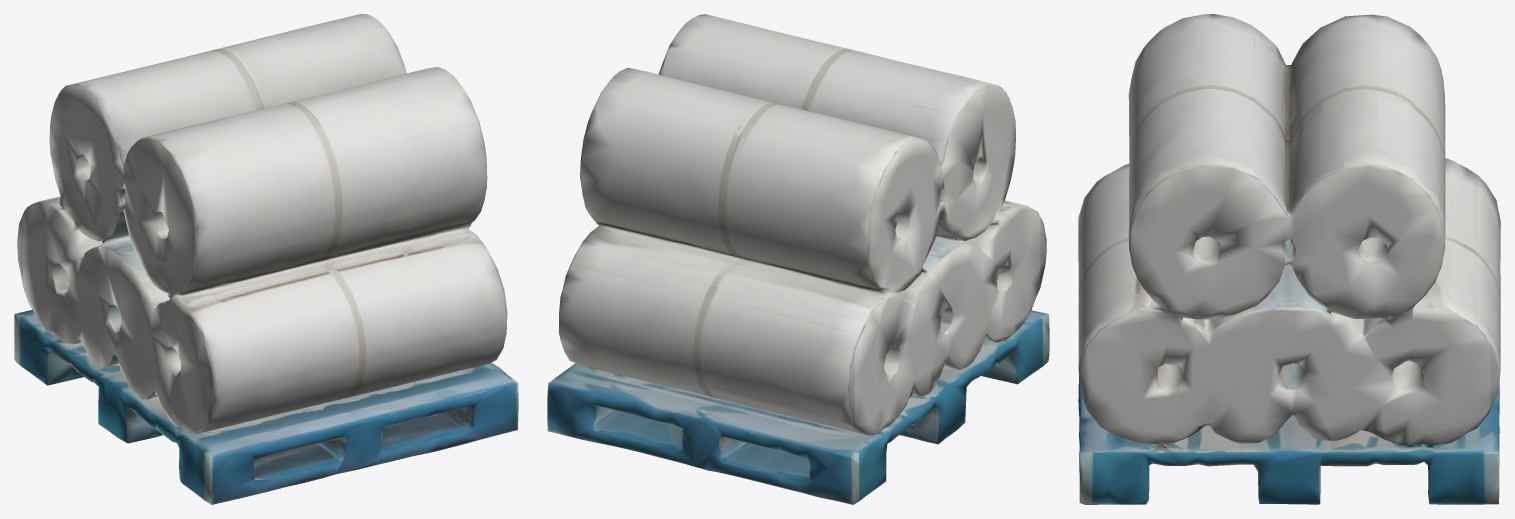
The model's file is Meshy_AI_Paper_Rolls_on_Pallet_0110121643_texture.fbx.
The picture shows the model from 3 angles, left to right: view 1: azimuth 30°, elevation 25°; view 2: azimuth 150°, elevation 25°; view 3: azimuth 270°, elevation 25°; orthographic projection. The views are drawn at different scales.
Visible parts, largest first — view 1: Mesh_0; view 2: Mesh_0; view 3: Mesh_0.
Part boxes in pixels (x1,y1,x2,y2): Mesh_0: [14, 14, 518, 504]; Mesh_0: [547, 14, 1049, 504]; Mesh_0: [1078, 14, 1500, 504].
Bounding box in the file's own units: 180 × 177 × 201.
1 material, 1 textured.
